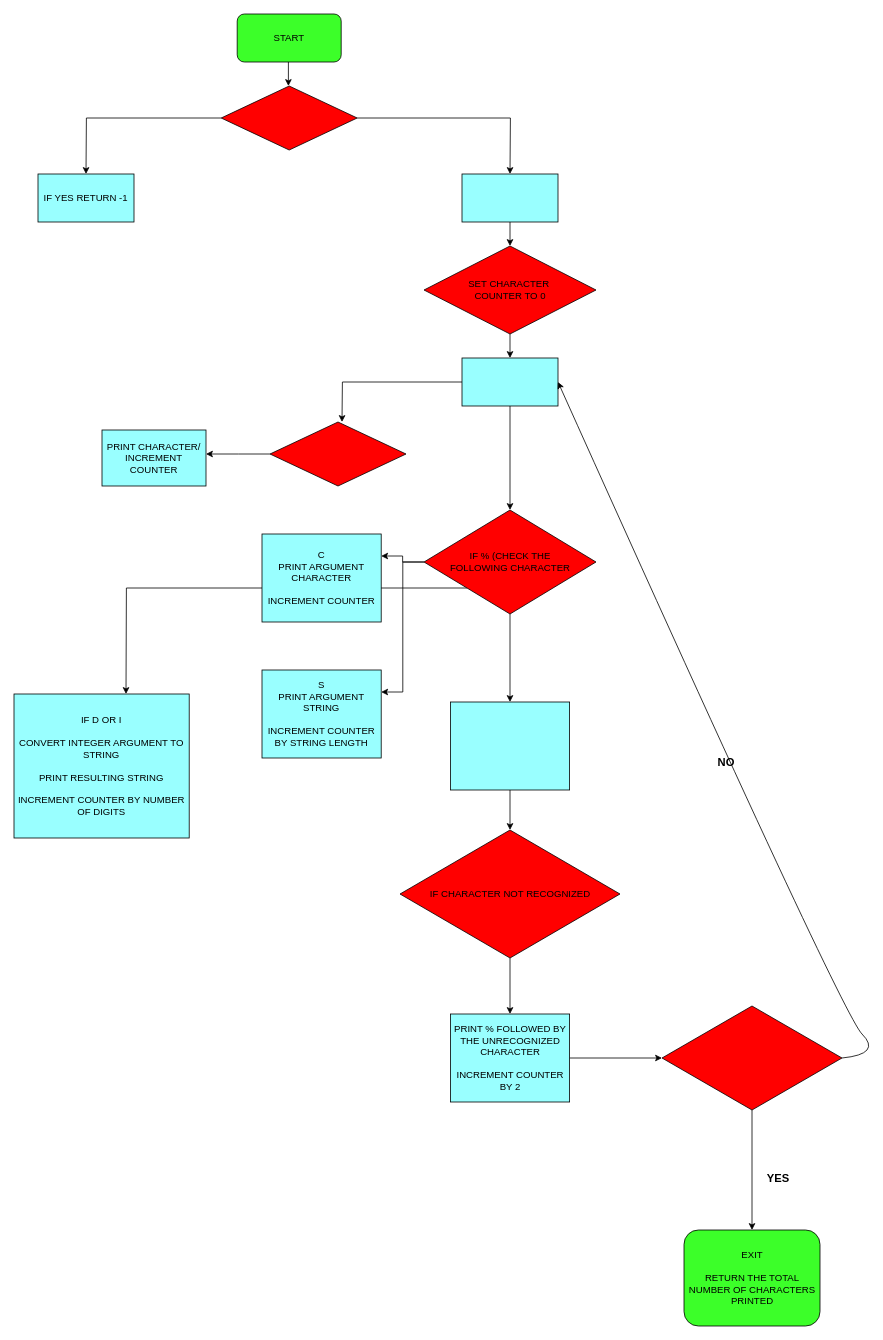
Some shapes in this 883 by 1340 pixel diagram are drawn without their labels. Here are the shapes that lost their labels. From the top down, the centre of each, then its label:
[288,117]: IS FORMAT IS NULL
[509,197]: IF NO CONTINUE
[509,381]: WHILE BROWSE THE FORMAT CHAIN
[337,453]: IF NORMAL CHARACTER
[510,745]: % PRINT % INCREMENT COUNTER
[751,1057]: IF ENF OF THE CHAIN
